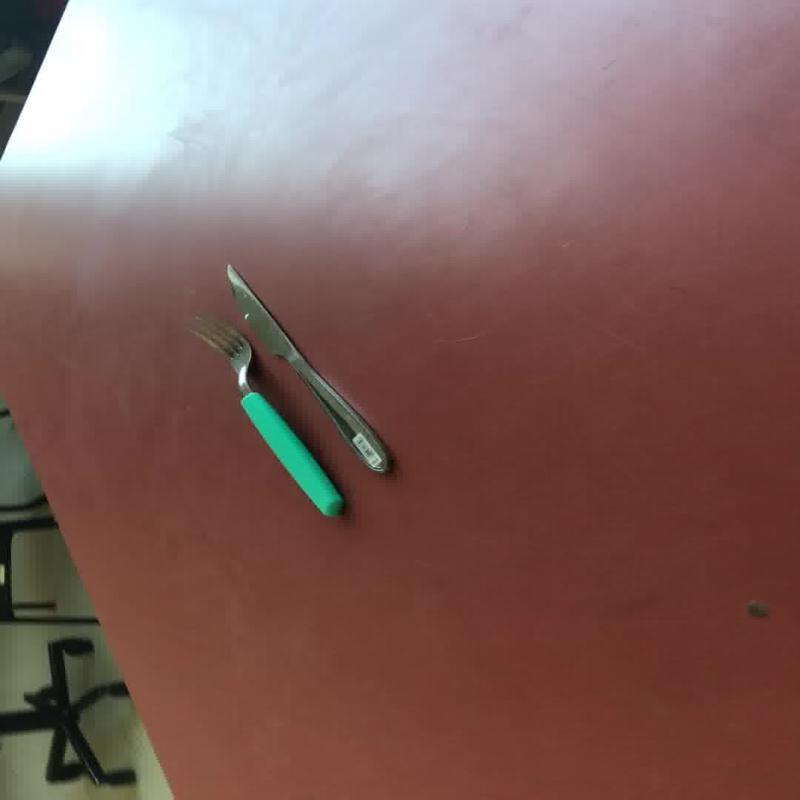fork: (186, 314, 344, 518)
knife: (222, 262, 390, 474)
